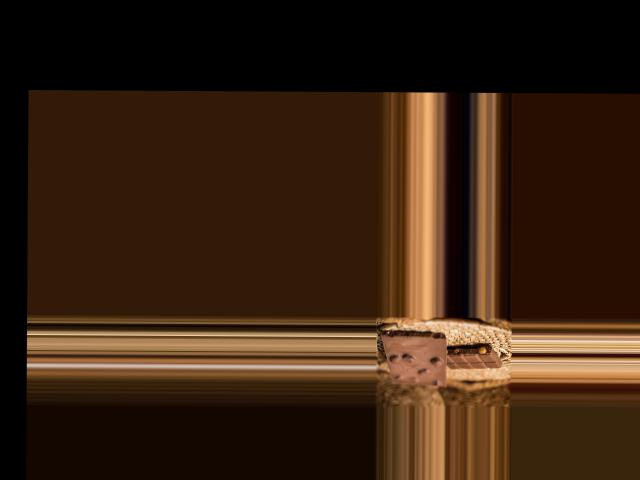chocolate: (380, 331, 450, 387)
